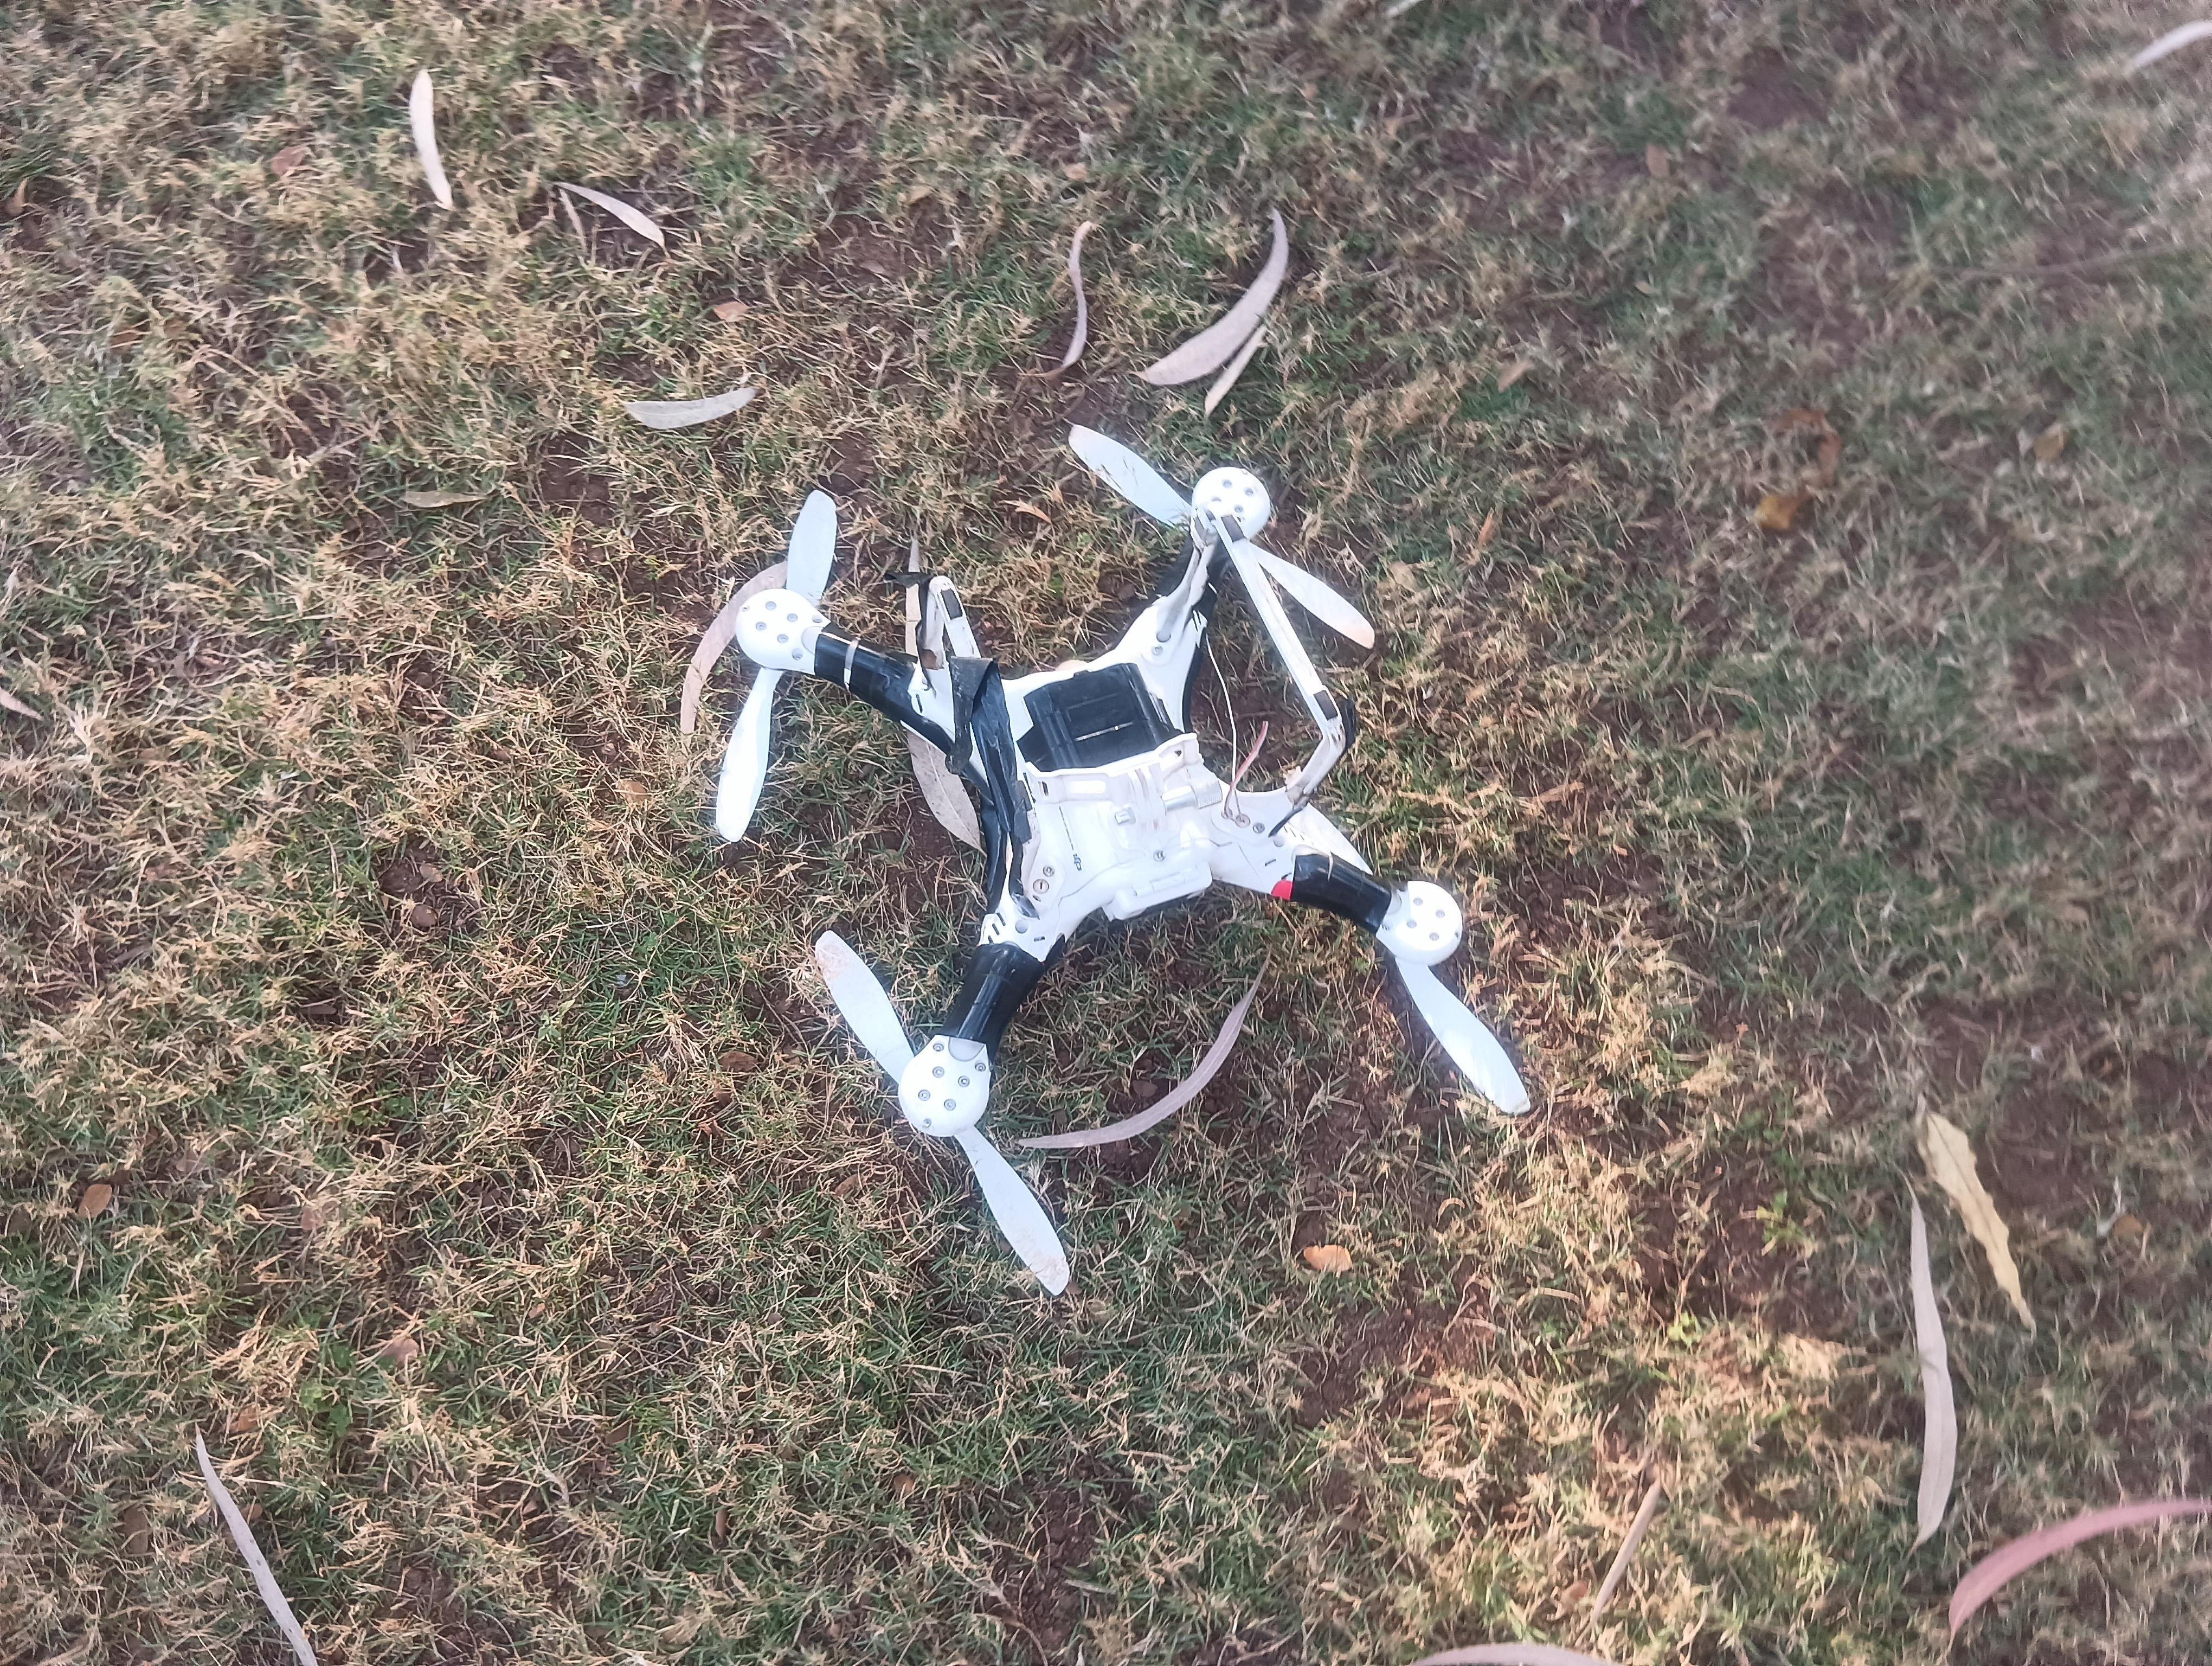drone: (635, 457, 1677, 1311)
